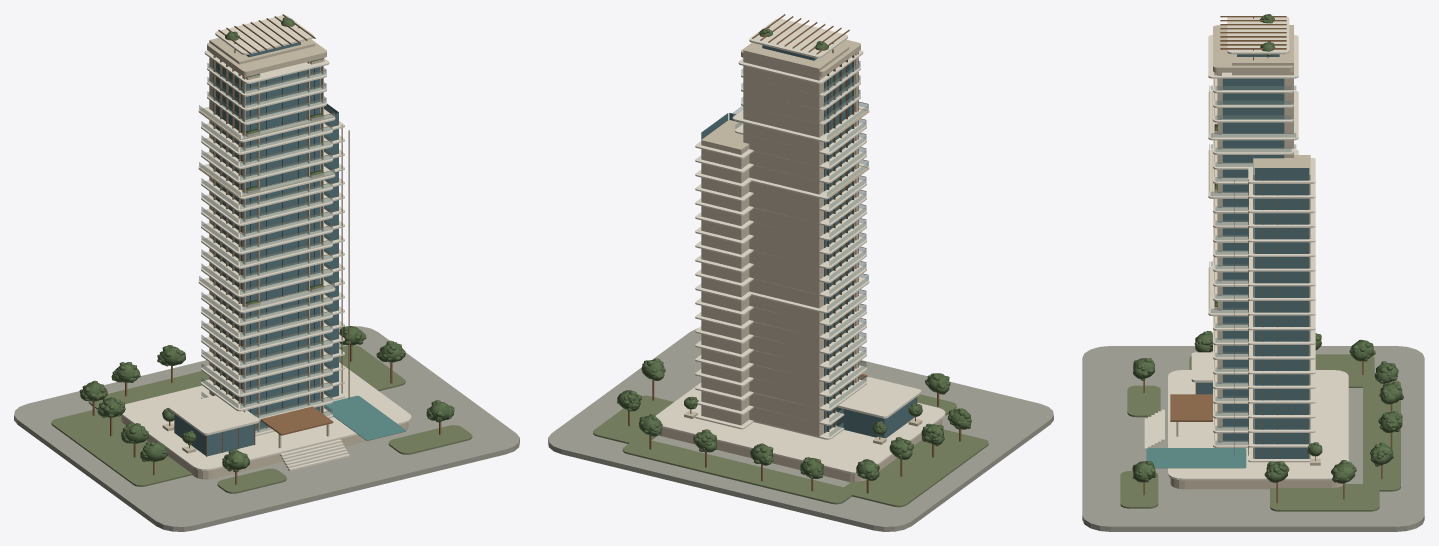
Rendered from aurelia-residence.glb.
3 views of the same model, side by side, from view 1: azimuth 30°, elevation 25°; view 2: azimuth 150°, elevation 25°; view 3: azimuth 270°, elevation 25° (orthographic). The views are drawn at different scales.
Visible parts, largest first — view 1: Balconies_Limestone, Ground_Paving, Glass_Glazing, Facade_Main_Glazing, Landscape_Meadow, Podium_Limestone, Landscape_Foliage, Facade_Secondary_Glazing, Architectural_Fins_Bronze, Architectural_Fins_Travertine, Balconies_Bronze, Private_Club_Limestone (+10 smaller); view 2: Building_Core_Travertine, Ground_Paving, Balconies_Limestone, Landscape_Meadow, Podium_Limestone, Glass_Glazing, Landscape_Foliage, Facade_Secondary_Glazing, Architectural_Fins_Bronze, Private_Club_Limestone, Sky_Terrace_Limestone, Podium_Travertine (+2 smaller); view 3: Ground_Paving, Facade_Secondary_Glazing, Balconies_Limestone, Landscape_Meadow, Podium_Limestone, Glass_Glazing, Landscape_Foliage, Building_Core_Travertine, Landscape_Water, Sky_Terrace_Limestone, Facade_Secondary_Bronze, Podium_Travertine (+5 smaller).
Part boxes in pixels (x1,y1,x2,y2): Balconies_Limestone: (198, 50, 344, 436); Ground_Paving: (14, 326, 519, 531); Glass_Glazing: (199, 63, 334, 433); Facade_Main_Glazing: (245, 67, 320, 430); Landscape_Meadow: (51, 345, 472, 493); Podium_Limestone: (121, 362, 411, 471); Landscape_Foliage: (79, 17, 454, 472); Facade_Secondary_Glazing: (213, 60, 338, 403); Architectural_Fins_Bronze: (213, 55, 322, 431); Architectural_Fins_Travertine: (242, 61, 323, 431); Balconies_Bronze: (239, 70, 334, 429); Private_Club_Limestone: (169, 395, 259, 435); Building_Core_Travertine: (701, 43, 849, 436); Ground_Paving: (548, 328, 1053, 531); Balconies_Limestone: (695, 50, 869, 439); Landscape_Meadow: (593, 394, 988, 507); Podium_Limestone: (655, 382, 945, 474); Glass_Glazing: (733, 61, 868, 436); Landscape_Foliage: (617, 28, 971, 480); Facade_Secondary_Glazing: (701, 60, 854, 433); Architectural_Fins_Bronze: (827, 52, 858, 431); Private_Club_Limestone: (836, 377, 921, 418); Sky_Terrace_Limestone: (749, 18, 847, 58); Podium_Travertine: (659, 419, 942, 482); Ground_Paving: (1082, 346, 1424, 531); Facade_Secondary_Glazing: (1222, 78, 1309, 458); Balconies_Limestone: (1208, 35, 1315, 462); Landscape_Meadow: (1120, 354, 1400, 511); Podium_Limestone: (1144, 370, 1348, 480); Glass_Glazing: (1209, 85, 1296, 445); Landscape_Foliage: (1132, 14, 1403, 483); Building_Core_Travertine: (1232, 25, 1310, 458); Landscape_Water: (1146, 448, 1246, 468); Sky_Terrace_Limestone: (1227, 17, 1289, 54); Facade_Secondary_Bronze: (1234, 179, 1305, 455); Podium_Travertine: (1170, 422, 1346, 489).
Bounding box in the file's own units: 90 × 95.9 × 72.
